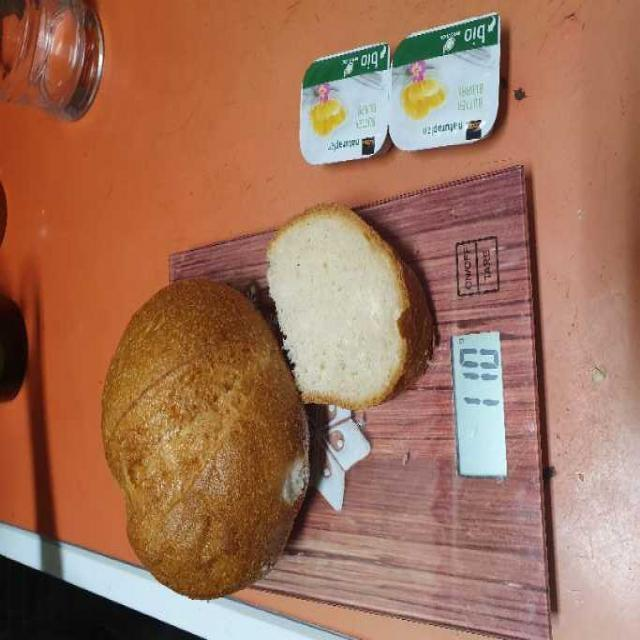bread: (102, 200, 426, 597)
butter: (286, 13, 503, 177)
